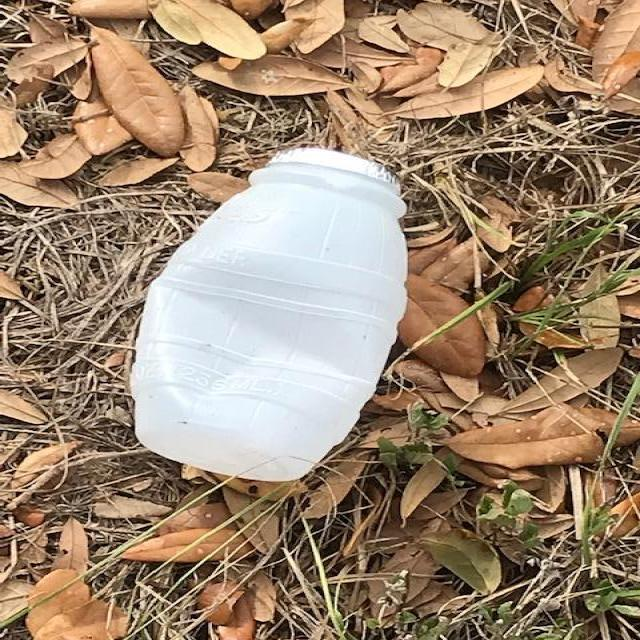litter: (195, 174, 640, 380)
